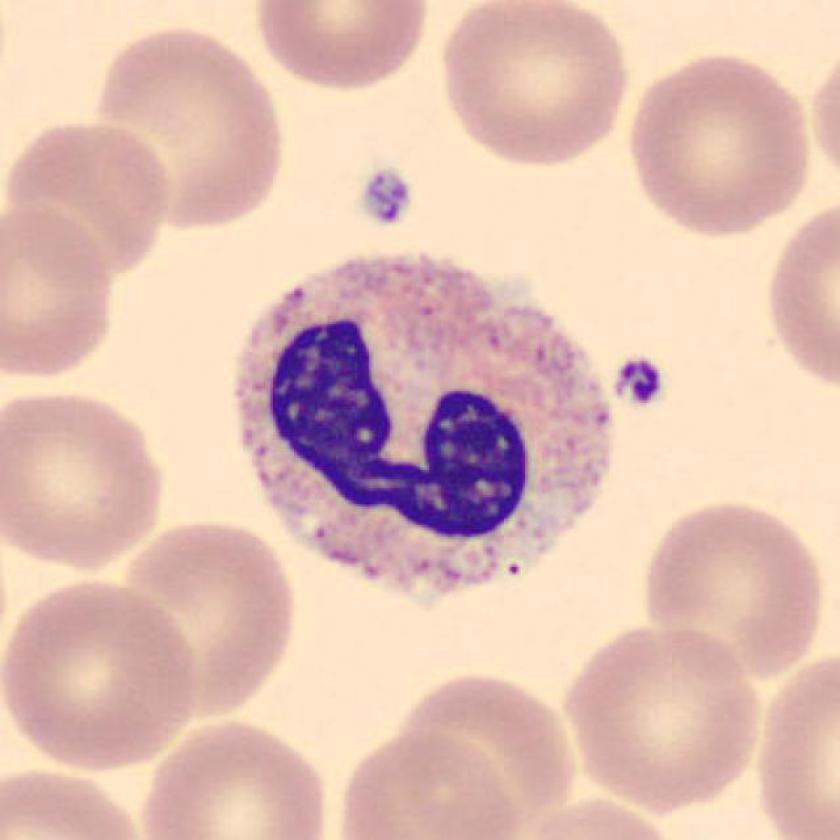neutrophil: (239, 253, 612, 592)
